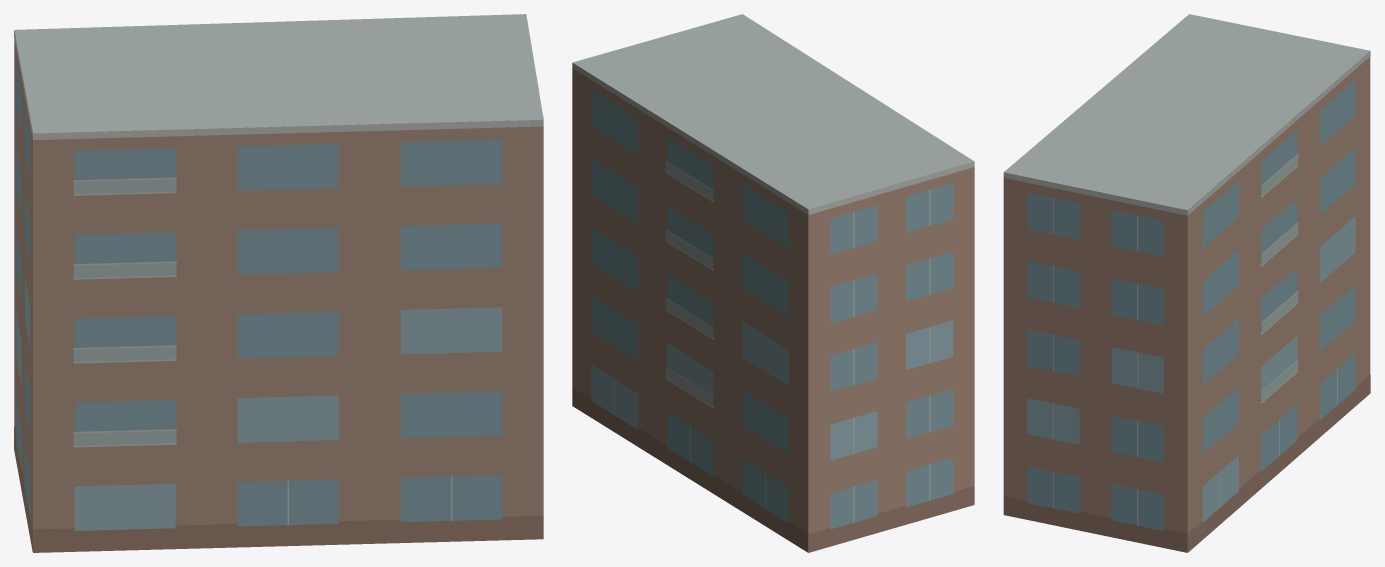
File: survey-upis-33018659.glb
The picture shows the model from 3 angles, left to right: view 1: azimuth 30°, elevation 25°; view 2: azimuth 150°, elevation 25°; view 3: azimuth 270°, elevation 25°; orthographic projection. The views are drawn at different scales.
Visible parts, largest first — view 1: survey-upis-33018659.tmp; view 2: survey-upis-33018659.tmp; view 3: survey-upis-33018659.tmp.
Part boxes in pixels (box(x1,y1,x2,y2)): survey-upis-33018659.tmp: box(14, 14, 543, 552); survey-upis-33018659.tmp: box(572, 14, 974, 552); survey-upis-33018659.tmp: box(1003, 14, 1370, 552).
Bounding box in the file's own units: 18.75 × 15.25 × 14.81.
